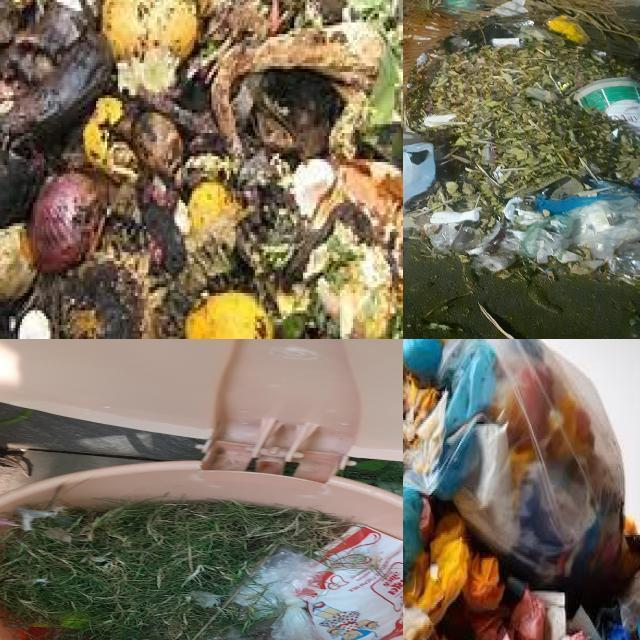Garbage: (403, 339, 640, 640), (403, 0, 640, 281), (0, 500, 403, 640)
Plastic: (520, 182, 640, 279), (451, 226, 485, 251)
Plastic_Bag: (403, 339, 624, 588), (307, 525, 403, 640), (234, 550, 327, 640), (574, 77, 640, 137), (444, 23, 516, 52), (403, 143, 436, 203), (546, 15, 591, 46), (429, 222, 458, 251), (441, 0, 485, 15)
Plastic_wraper: (479, 141, 497, 166)
Thermocol: (430, 207, 481, 224)
